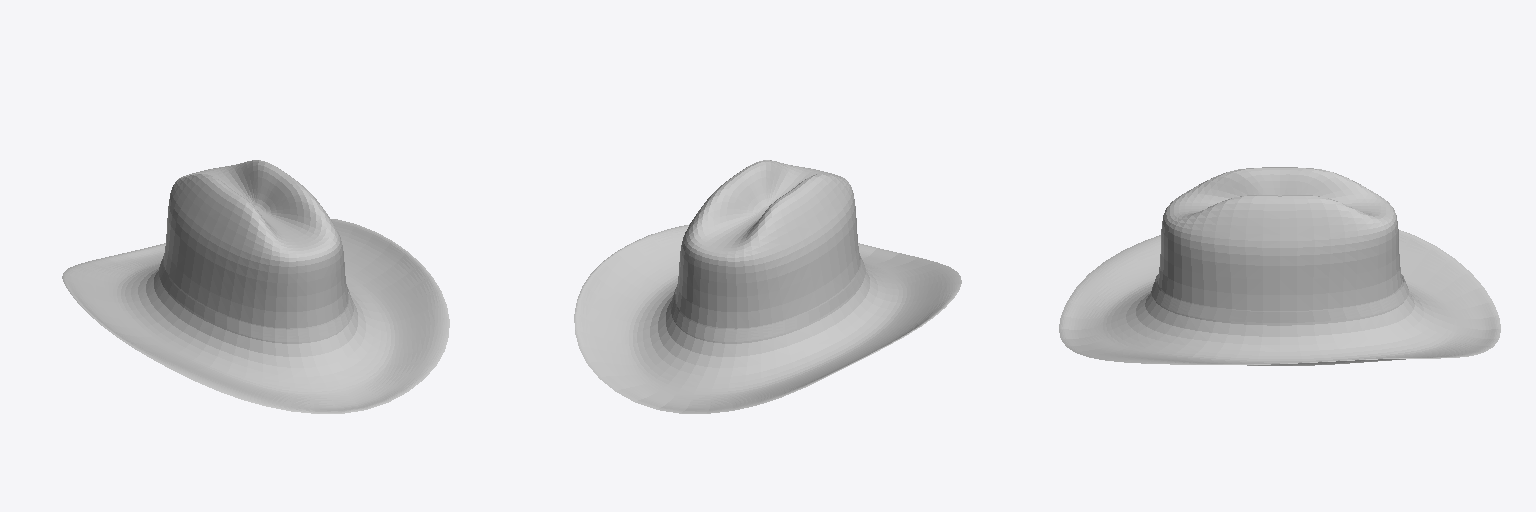
Rendered from hatobj.obj.
3 views of the same model, side by side, from view 1: azimuth 30°, elevation 25°; view 2: azimuth 150°, elevation 25°; view 3: azimuth 270°, elevation 25° (orthographic).
Parts seen in each view (by area): view 1: Circle_001_001, Circle_Non_001; view 2: Circle_001_001, Circle_Non_001; view 3: Circle_001_001, Circle_Non_001.
Part boxes in pixels (bbox=[...]): Circle_001_001: bbox=[62, 160, 449, 413]; Circle_Non_001: bbox=[159, 256, 353, 341]; Circle_001_001: bbox=[574, 160, 961, 413]; Circle_Non_001: bbox=[671, 256, 865, 341]; Circle_001_001: bbox=[1059, 167, 1500, 365]; Circle_Non_001: bbox=[1151, 275, 1408, 322].
Size of the model in its own units: 8.57 by 3.96 by 10.74.